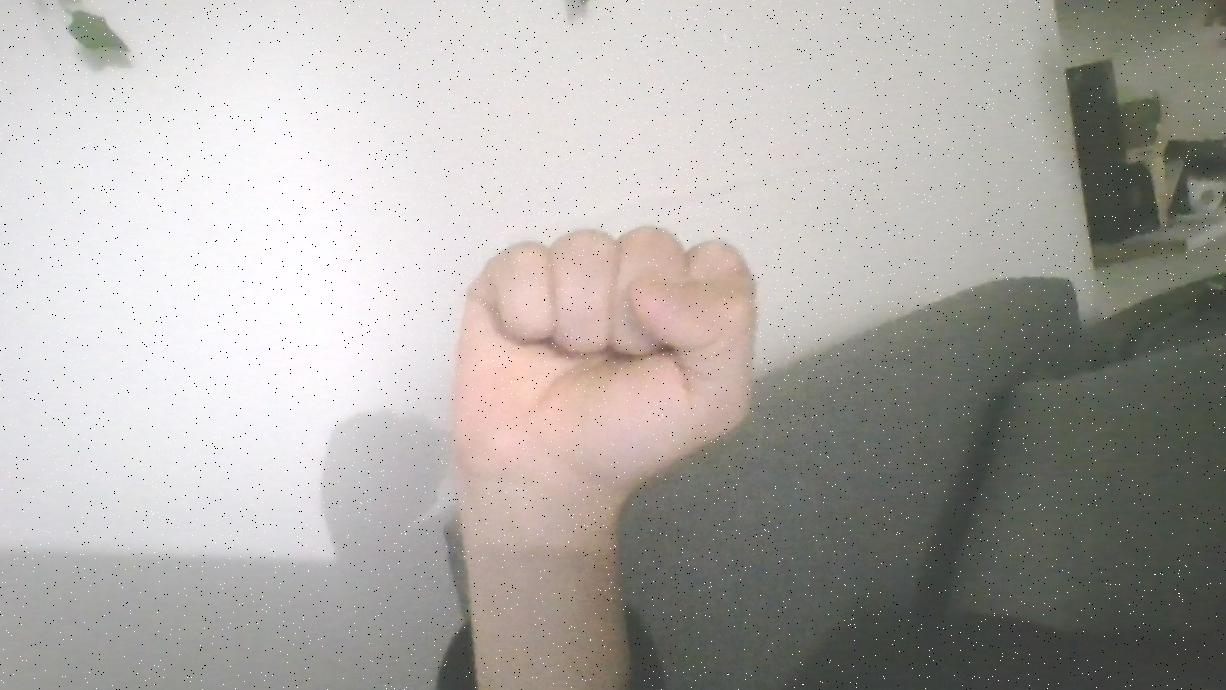stop: (424, 192, 768, 522)
